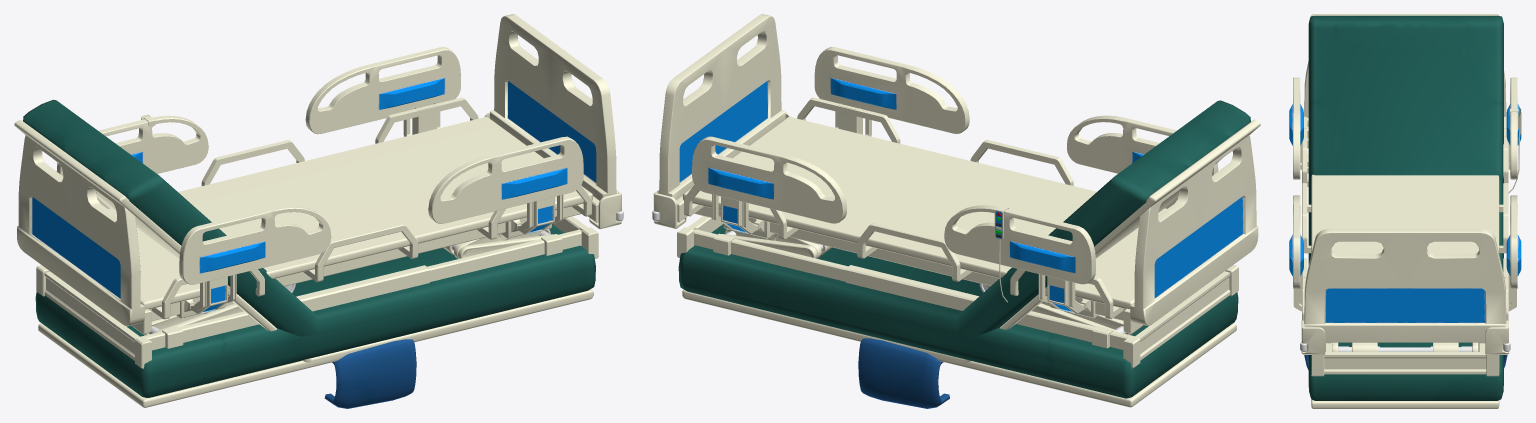
Rendered from Bed_Edit.fbx.
3 renders of one model, left to right at view 1: azimuth 30°, elevation 25°; view 2: azimuth 150°, elevation 25°; view 3: azimuth 270°, elevation 25°, orthographic. The views are drawn at different scales.
Parts seen in each view (by area): view 1: Frame, Matres 45Deg, Matres 0Deg, Blanket; view 2: Frame, Matres 45Deg, Matres 0Deg, Blanket; view 3: Frame, Matres 45Deg, Matres 0Deg.
Part boxes in pixels (box(x1,y1,x2,y2)): Frame: box(17, 14, 623, 368); Matres 45Deg: box(14, 99, 595, 362); Matres 0Deg: box(35, 224, 595, 407); Blanket: box(324, 339, 416, 408); Frame: box(652, 14, 1258, 368); Matres 45Deg: box(679, 100, 1260, 364); Matres 0Deg: box(678, 224, 1238, 407); Blanket: box(858, 338, 949, 408); Frame: box(1289, 61, 1521, 376); Matres 45Deg: box(1308, 14, 1503, 408); Matres 0Deg: box(1308, 365, 1503, 408).
Bounding box in the file's own units: 229 × 123 × 104.
